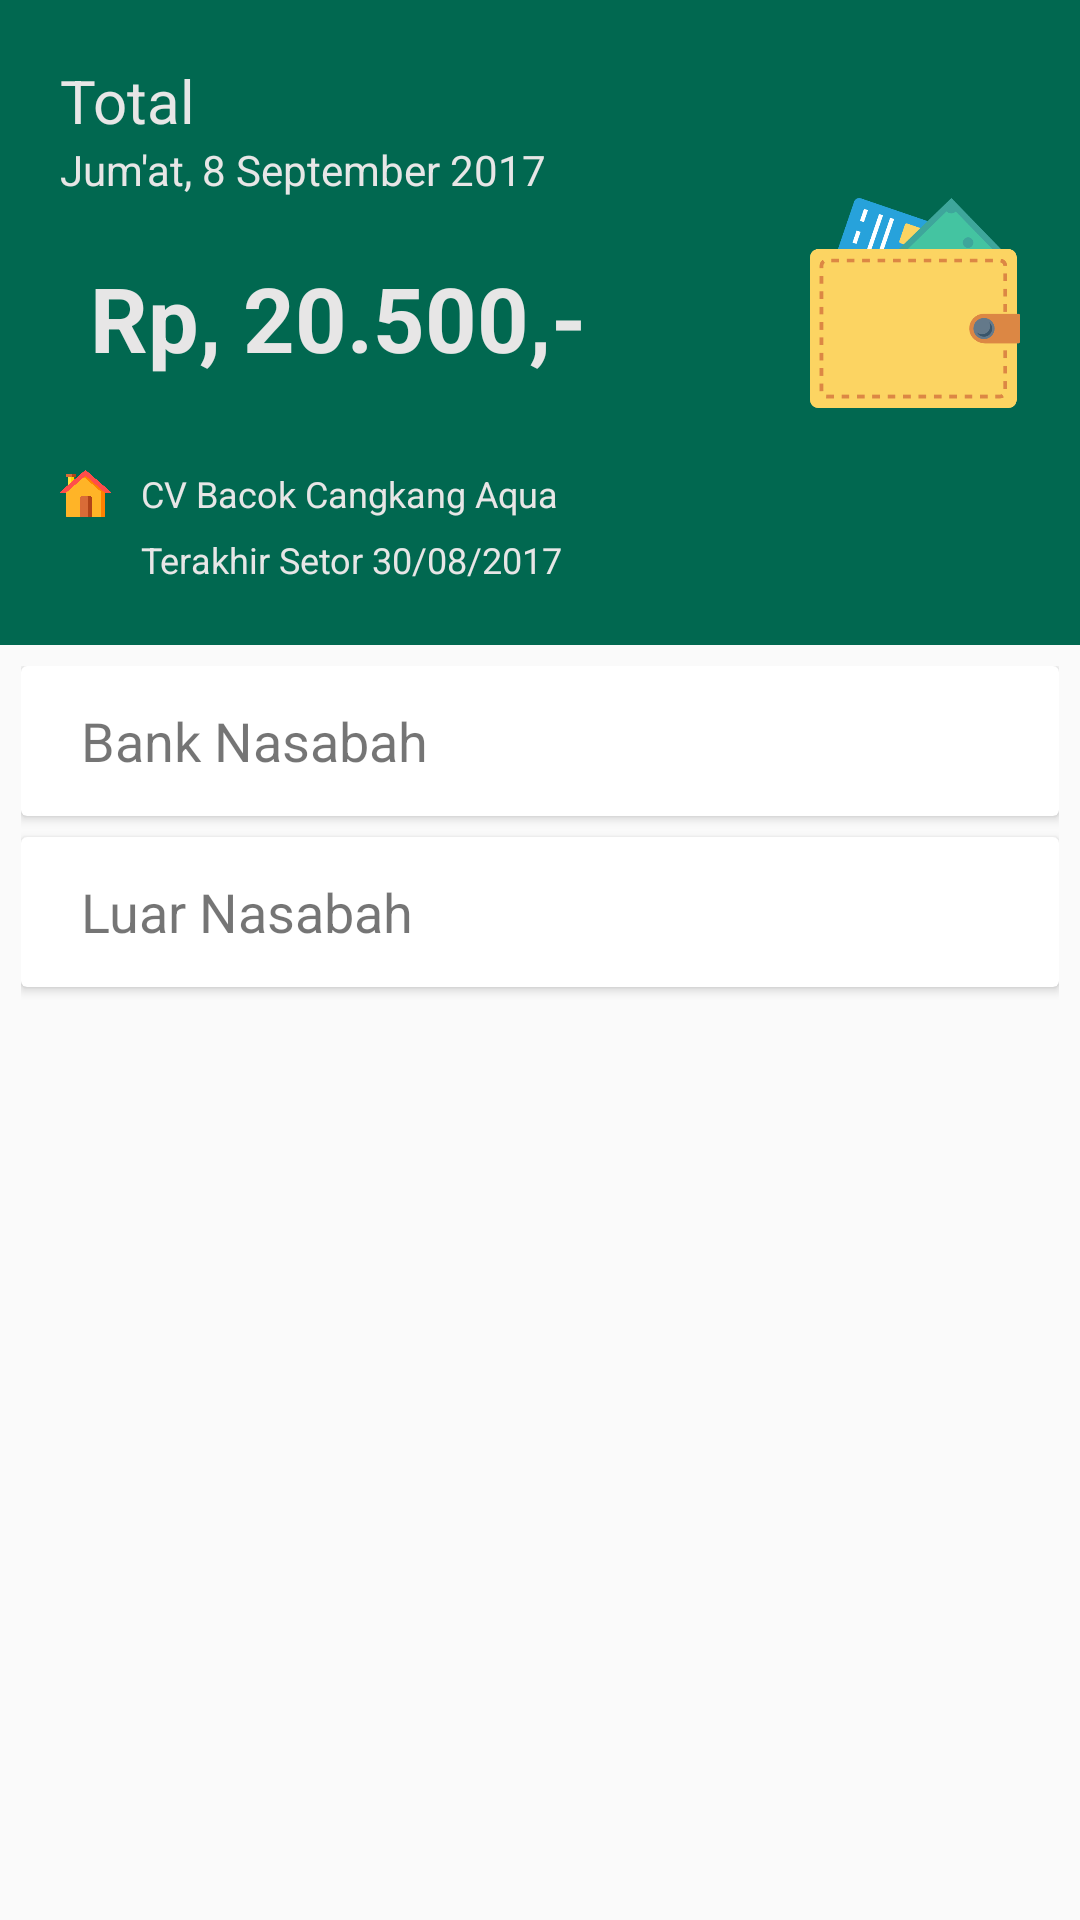

Screen size 1080x1920. Icon name, then its box in pixels as bbox=[x1, y1, x2, y2]:
dompet: bbox=[810, 198, 1020, 408]
